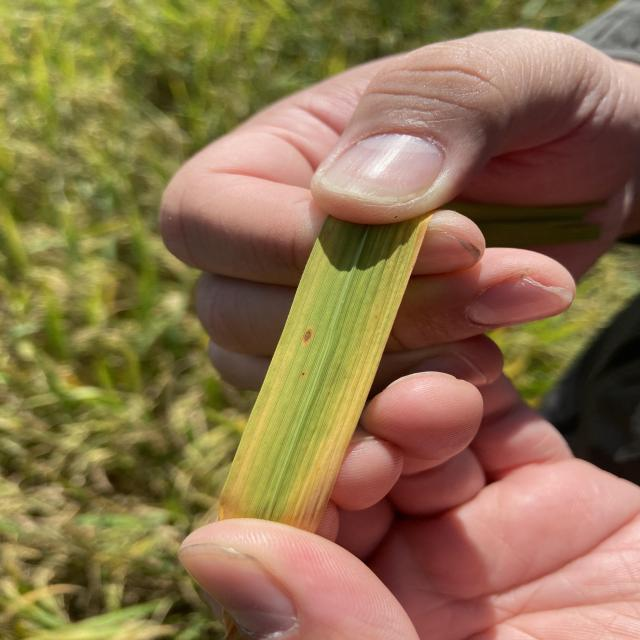Dom nau: (304, 331, 310, 341), (302, 372, 305, 375)
